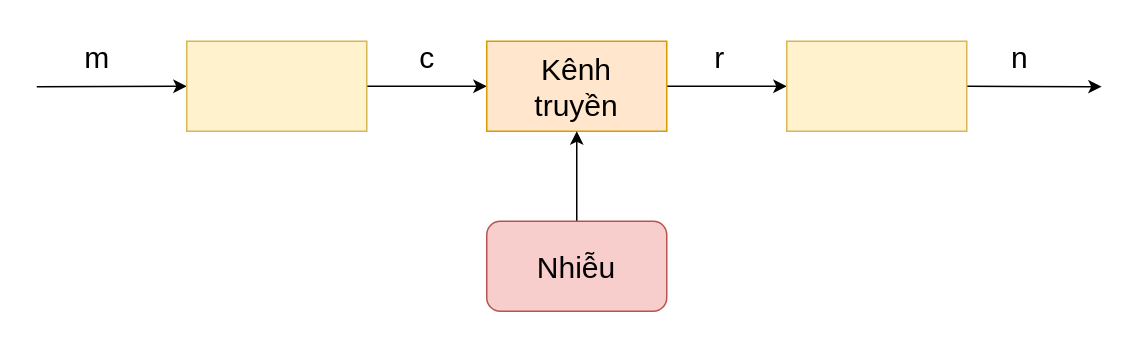
Image size: 1140x338. Some labels were removed from this diagram. The shapes that lost their labels are listed below. From the top down, each one's centre as x and y in pixels, then its label:
At point (276, 85): "Bộ mã tích chập".
At point (876, 85): "Bộ giả mã Viterbi".
